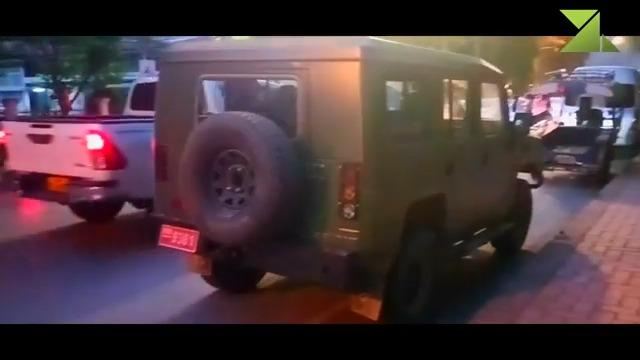MIL_HMMWV: (151, 36, 548, 325), (0, 79, 155, 224)
